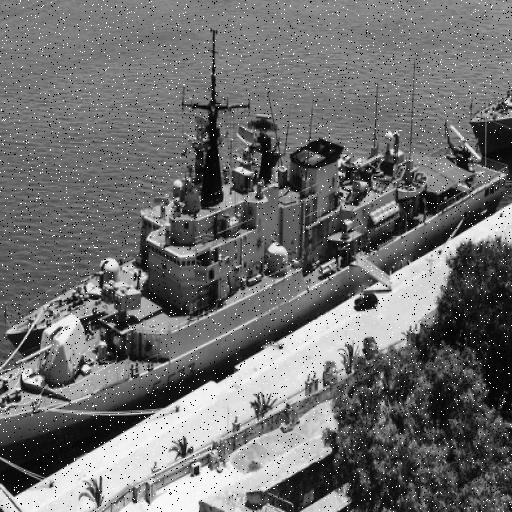Fragata: (1, 38, 510, 512)
